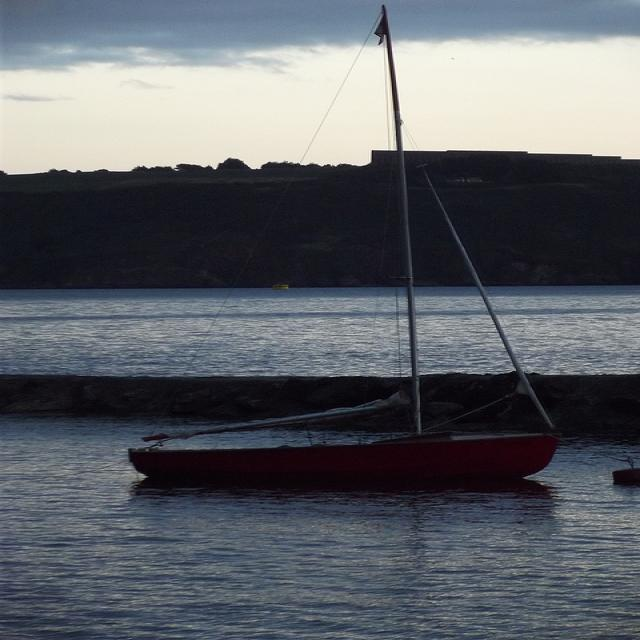Boat: (91, 8, 596, 514)
